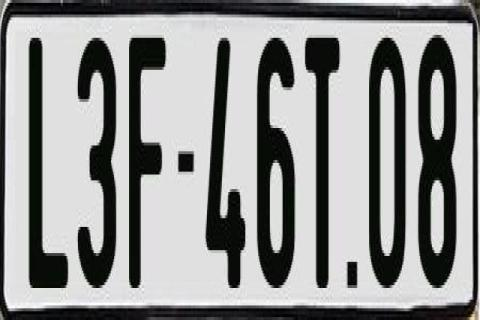0: (367, 29, 409, 294), (256, 38, 298, 294), (203, 29, 243, 291), (75, 29, 114, 294), (417, 35, 454, 294)
F: (129, 29, 169, 282)
L: (26, 35, 68, 303)
T: (304, 32, 340, 300)
